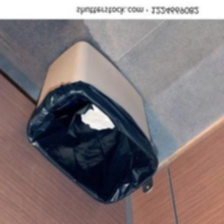tissue: (78, 102, 118, 132)
